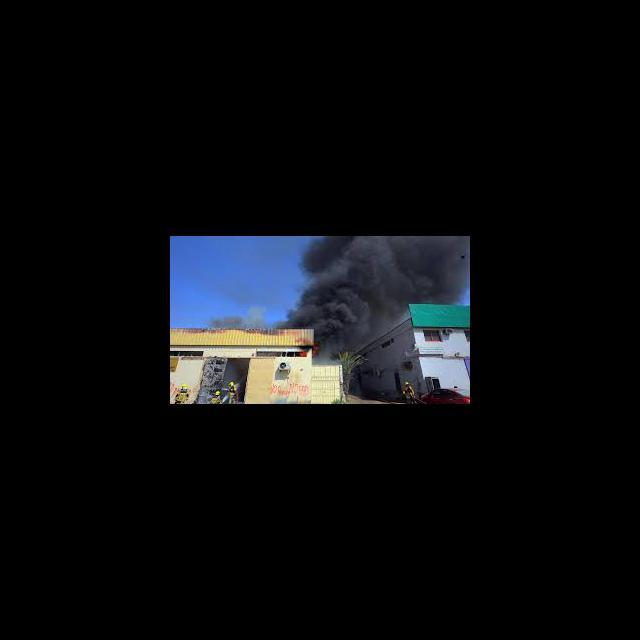Fire: (299, 342, 322, 359)
Smoke: (276, 236, 470, 329)
